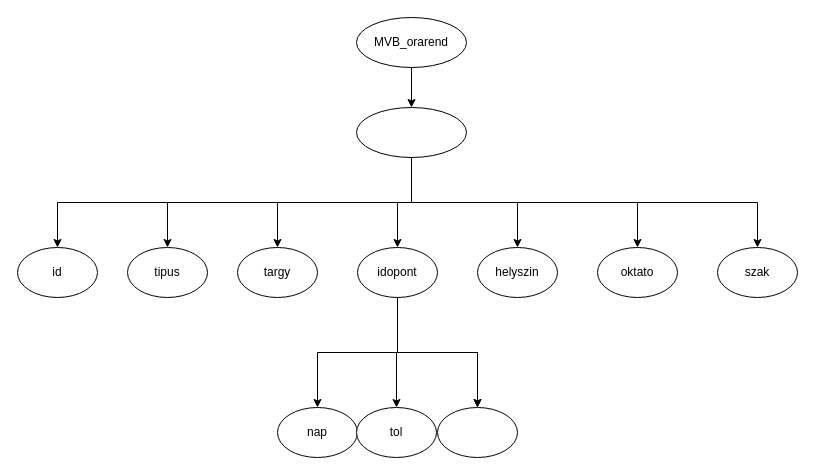
This 815x475 diagram has some shape labels left out. The shapes that lost their labels are listed below. From the top down, each one's box as (x1, y1, x2, y2) in pixels, then its label:
(356, 106, 466, 158): Óra
(436, 406, 518, 458): ig
